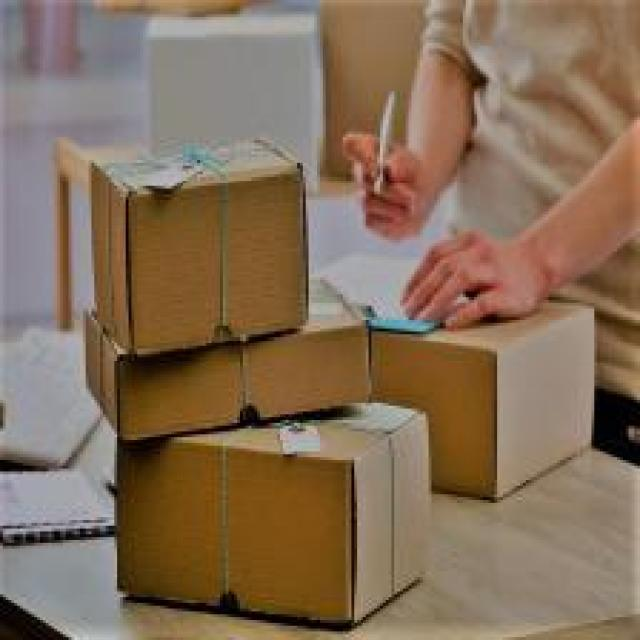box: (113, 400, 433, 625), (361, 289, 598, 502), (81, 275, 373, 445), (90, 136, 312, 357)
